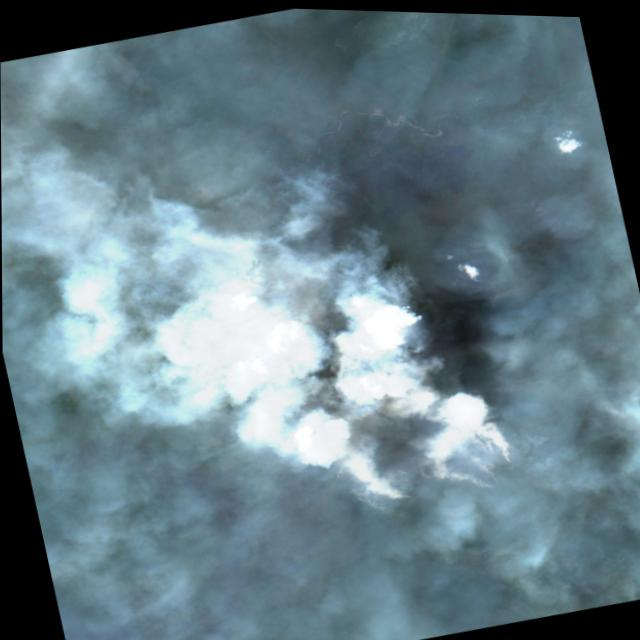fire: (317, 365, 537, 531)
